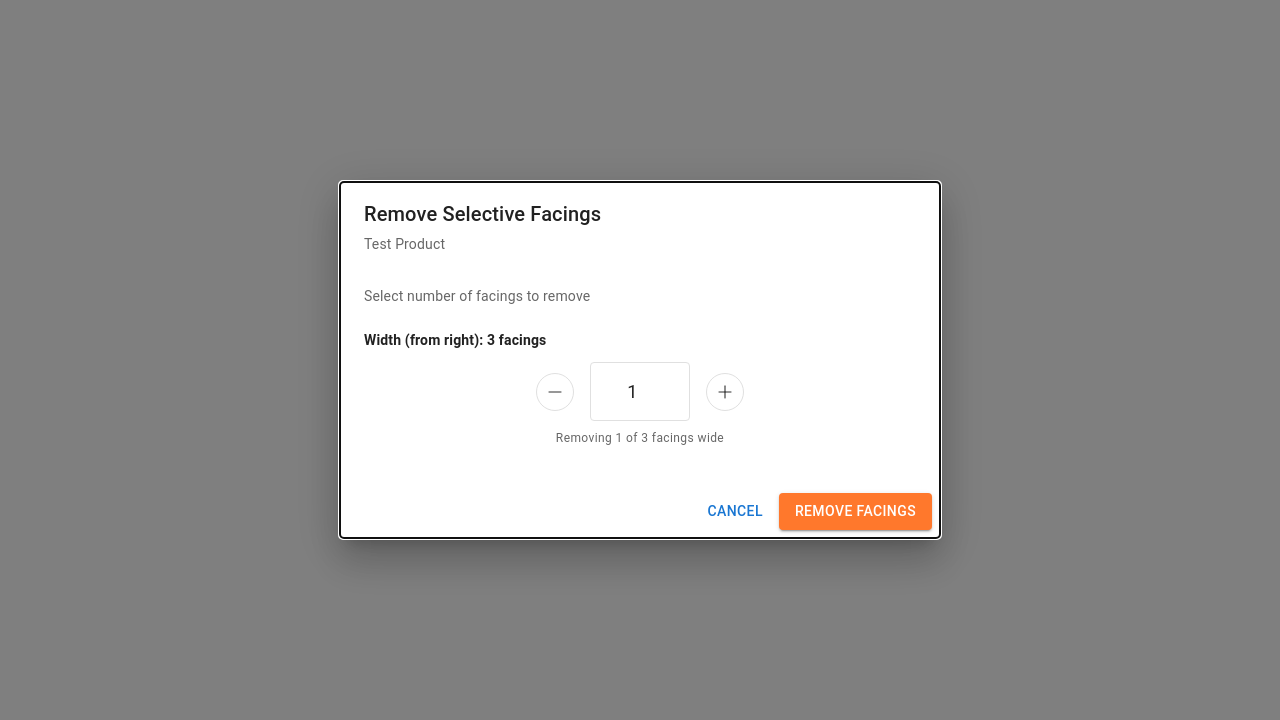
Test case: SelectiveFacingsDialog › Wide facings controls › decreases facingsWideToRemove when minus button is clicked
First increase to 2
Click the 2nd button: [725, 392] box 706,373 -> 744,411
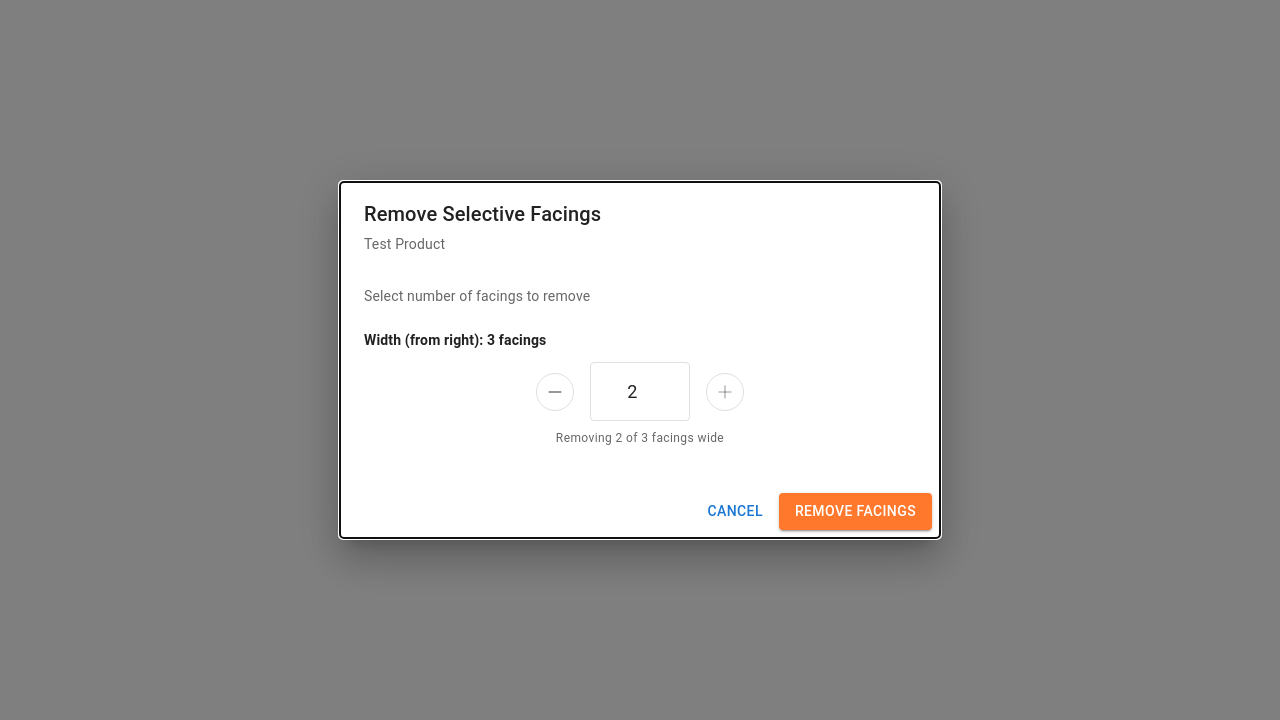
expect the number field holds "2": met, box 590,362 -> 690,421
Now decrease
Click the 1st button: [555, 392] box 536,373 -> 574,411
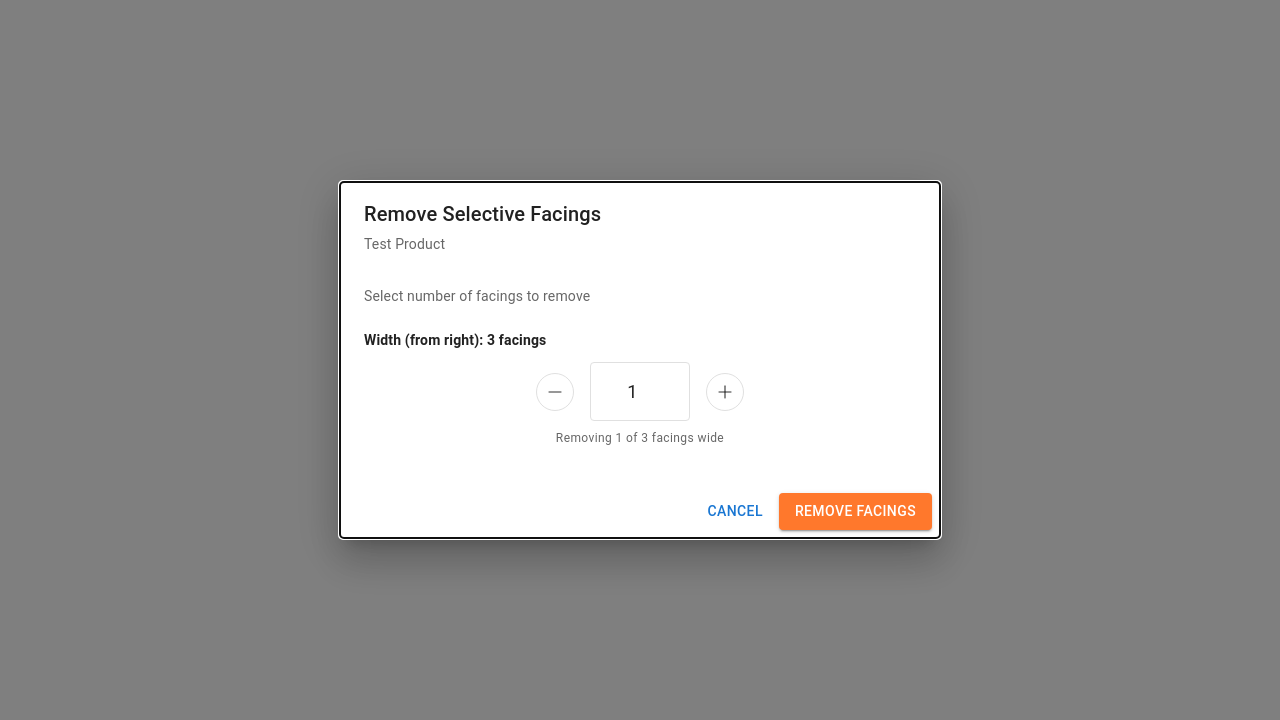
expect the number field holds "1": met, box 590,362 -> 690,421
